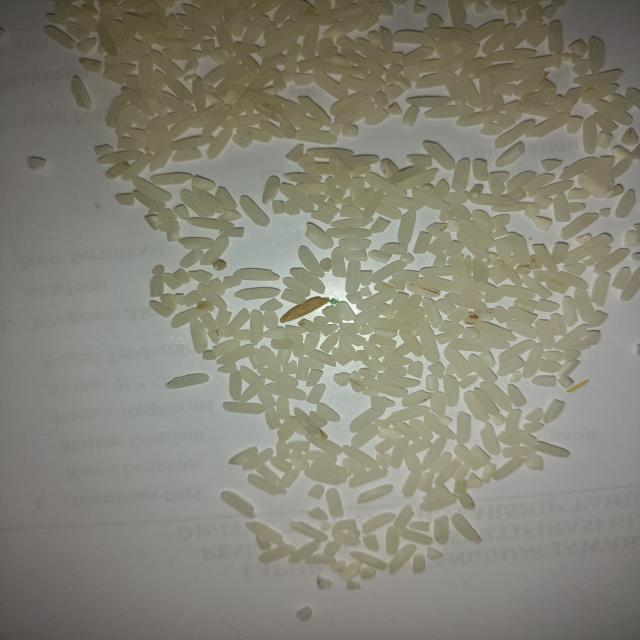Bulir_padi: (282, 295, 332, 322)
